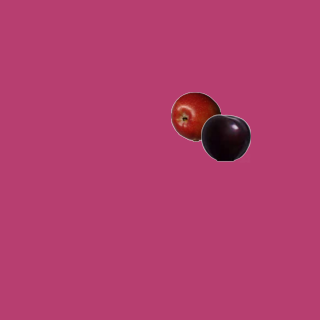Apple Braeburn: (170, 91, 220, 141)
Cherry Wax Black: (200, 112, 250, 162)
